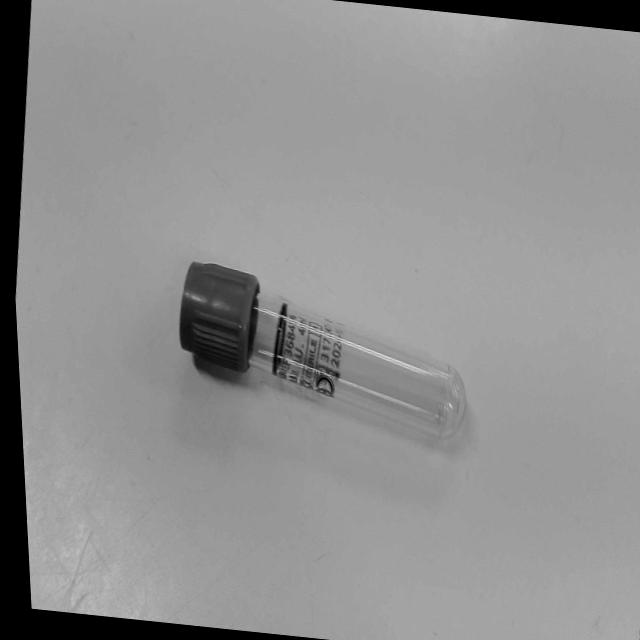Pathological: (14, 1, 638, 637)
Sharps: (179, 259, 469, 441)
